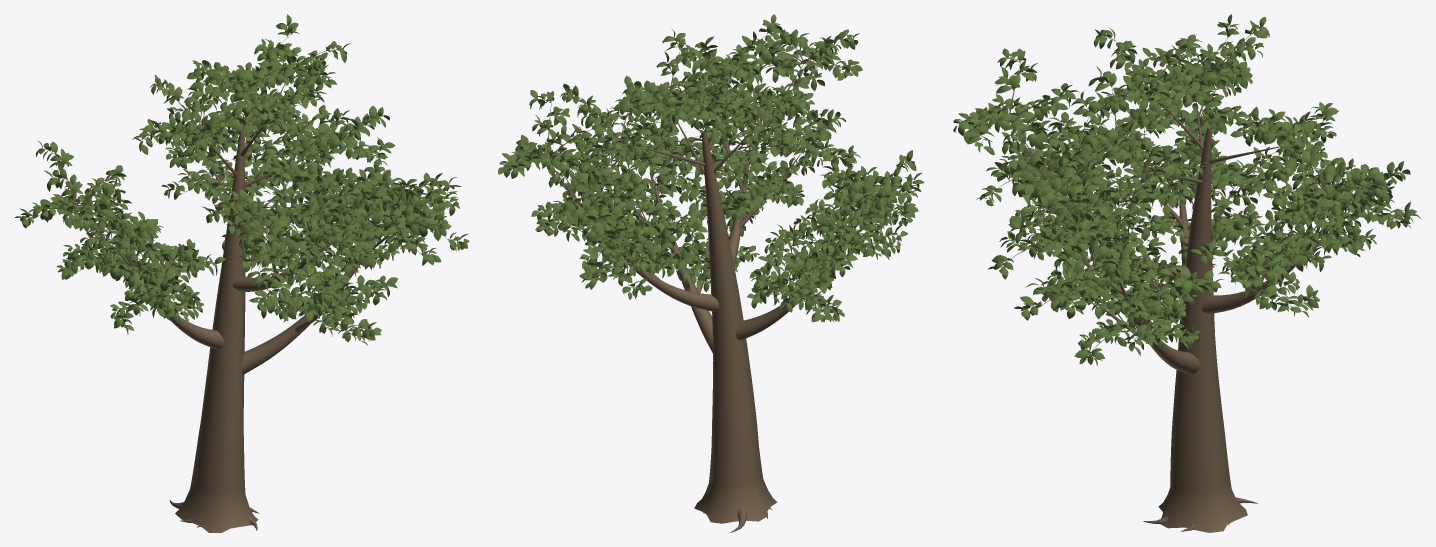
Rendered from corealm_oak_2.glb.
3 views of the same model, side by side, from view 1: azimuth 30°, elevation 25°; view 2: azimuth 150°, elevation 25°; view 3: azimuth 270°, elevation 25° (orthographic). The views are drawn at different scales.
Visible parts, largest first — view 1: corealm_oak_2; view 2: corealm_oak_2; view 3: corealm_oak_2.
Boxes of the visible parts, x1,y1,x2,y2 form: corealm_oak_2: (14,14,469,532); corealm_oak_2: (498,14,924,532); corealm_oak_2: (953,14,1420,532).
Bounding box in the file's own units: 7.47 × 8.56 × 7.4.
